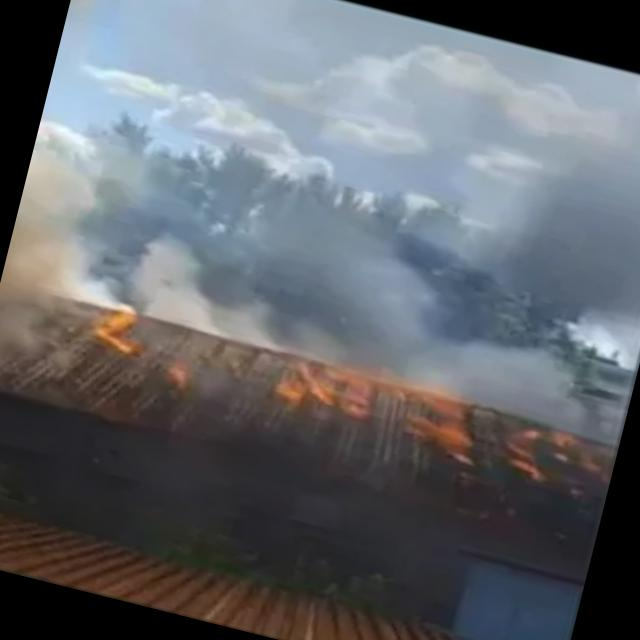Smoke: (296, 254, 612, 431), (0, 0, 149, 351), (465, 51, 640, 332), (124, 214, 302, 358)
